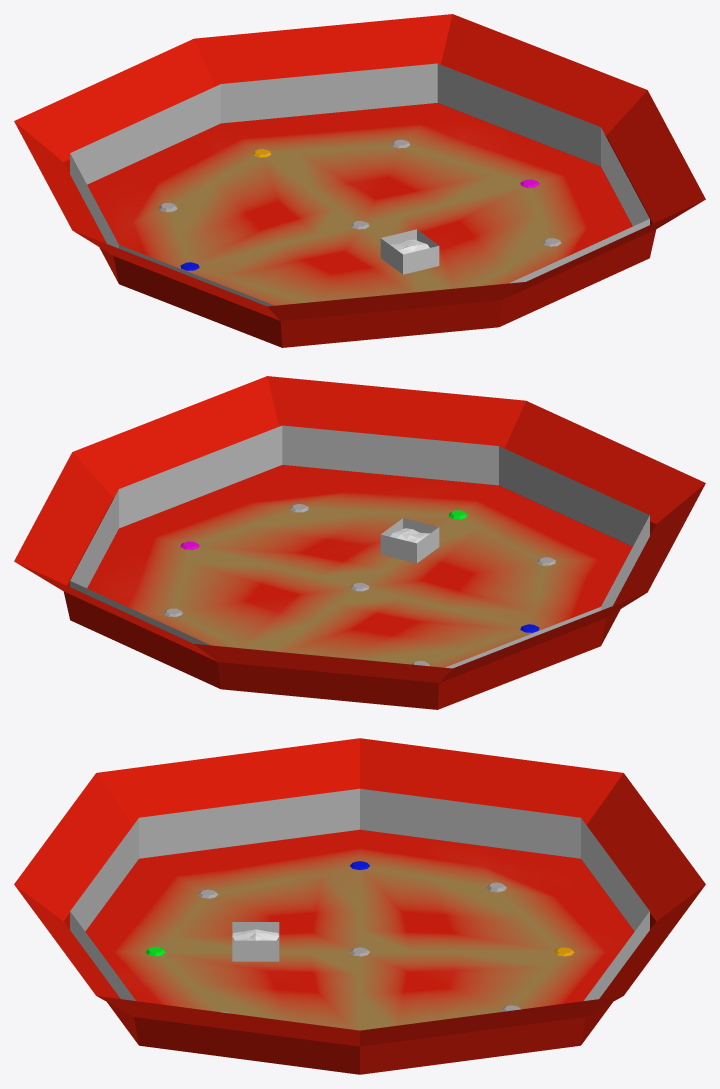
File: TheOctogon.fbx
3 renders of one model, top to bottom at view 1: azimuth 30°, elevation 25°; view 2: azimuth 150°, elevation 25°; view 3: azimuth 270°, elevation 25°, orthographic. The views are drawn at different scales.
Parts seen in each view (by area): view 1: Geometry, Boundary, DecorBoundary Rock004; view 2: Geometry, Boundary, DecorBoundary Rock004; view 3: Geometry, Boundary, DecorBoundary Rock004.
Boxes of the visible parts, left/top/right/bottom form: Geometry: left=14, top=14, right=705, bottom=347; Boundary: left=70, top=63, right=649, bottom=306; DecorBoundary Rock004: left=380, top=229, right=439, bottom=274; Geometry: left=14, top=376, right=705, bottom=709; Boundary: left=70, top=425, right=649, bottom=668; DecorBoundary Rock004: left=380, top=518, right=439, bottom=563; Geometry: left=14, top=738, right=705, bottom=1074; Boundary: left=70, top=788, right=649, bottom=1000; DecorBoundary Rock004: left=232, top=922, right=279, bottom=961.
Bounding box in the file's own units: 15237 × 1654 × 15237.
